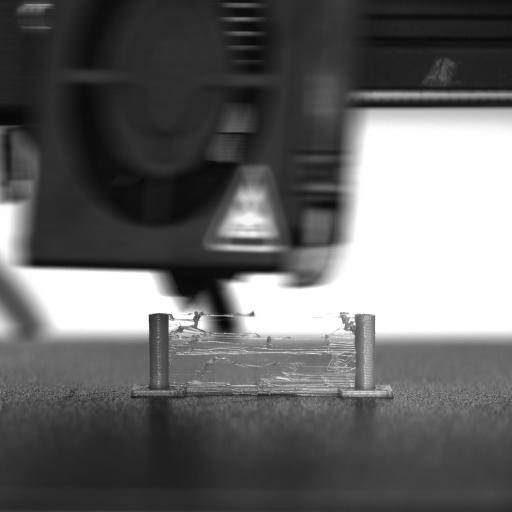spaghetti_and_stringing: (168, 308, 358, 390)
